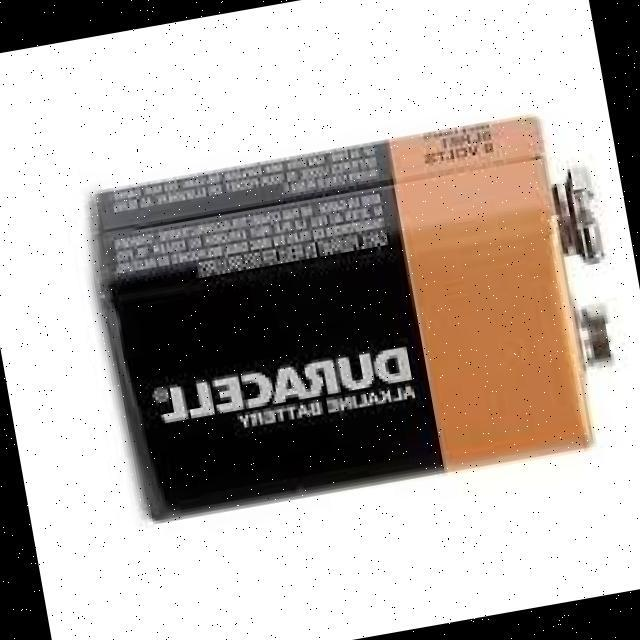9V: (87, 113, 601, 521)
